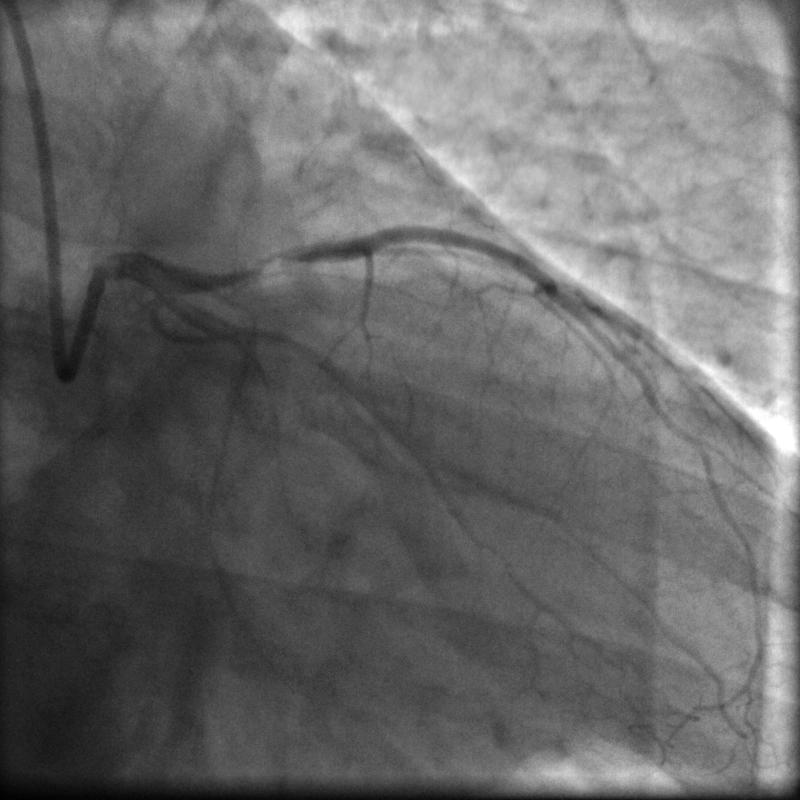Stenosis: (232, 245, 317, 275)
